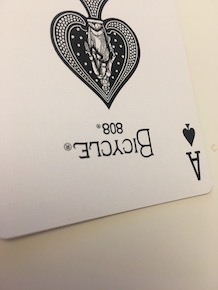AceOfSpades: (1, 1, 215, 251)
